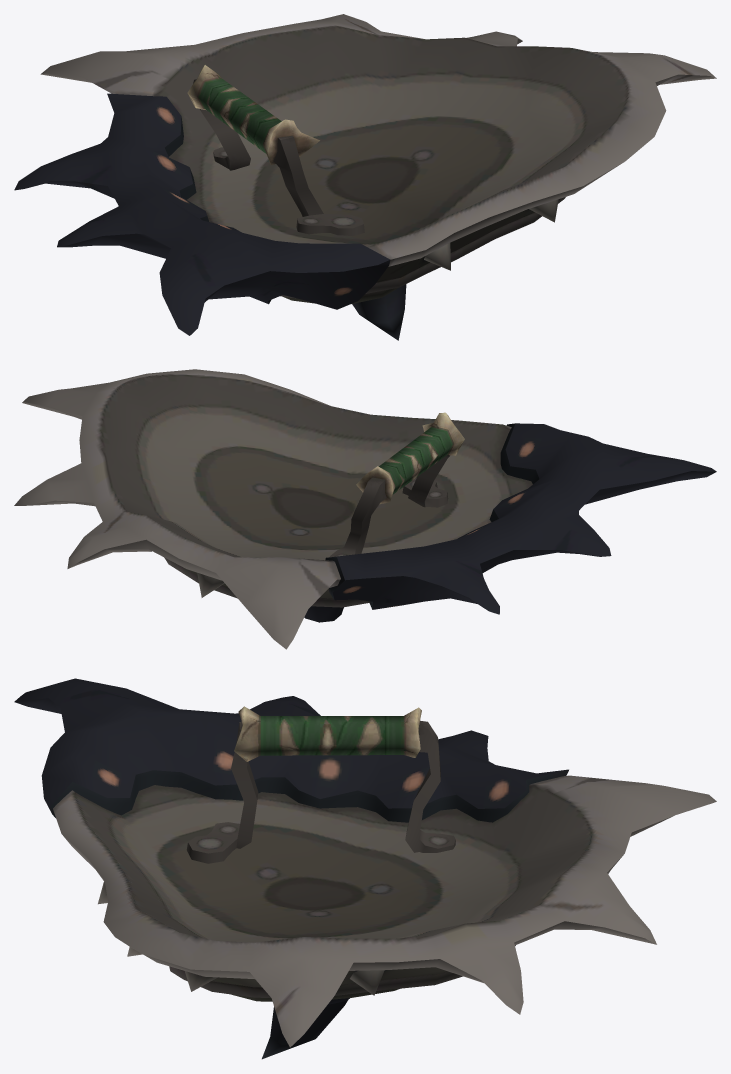
Rendered from Weapon_Shield_008.glb.
3 renders of one model, top to bottom at view 1: azimuth 30°, elevation 25°; view 2: azimuth 150°, elevation 25°; view 3: azimuth 270°, elevation 25°, orthographic. The views are drawn at different scales.
Parts seen in each view (by area): view 1: Weapon_Shield_008; view 2: Weapon_Shield_008; view 3: Weapon_Shield_008.
Boxes of the visible parts, x1,y1,x2,y2 form: Weapon_Shield_008: (14, 14, 716, 340); Weapon_Shield_008: (14, 369, 716, 649); Weapon_Shield_008: (14, 678, 716, 1059).
Bounding box in the file's own units: 0.8315 × 0.3096 × 0.687.
1 material, 1 textured.
